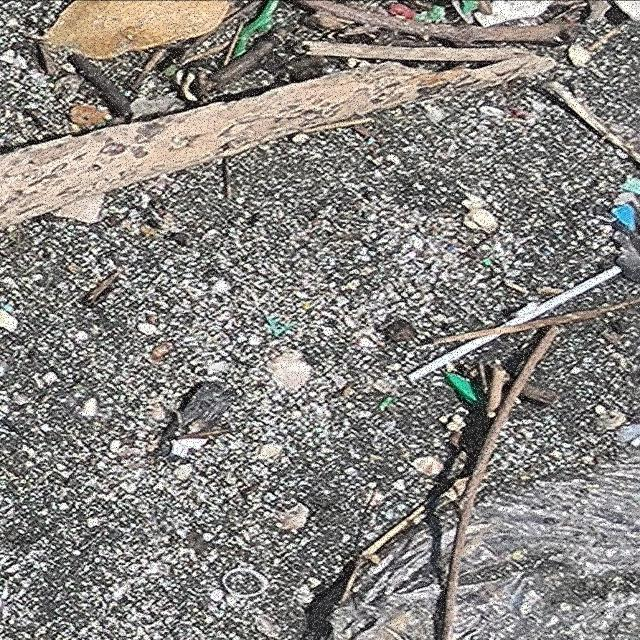plastic_waste: (403, 264, 624, 384)
